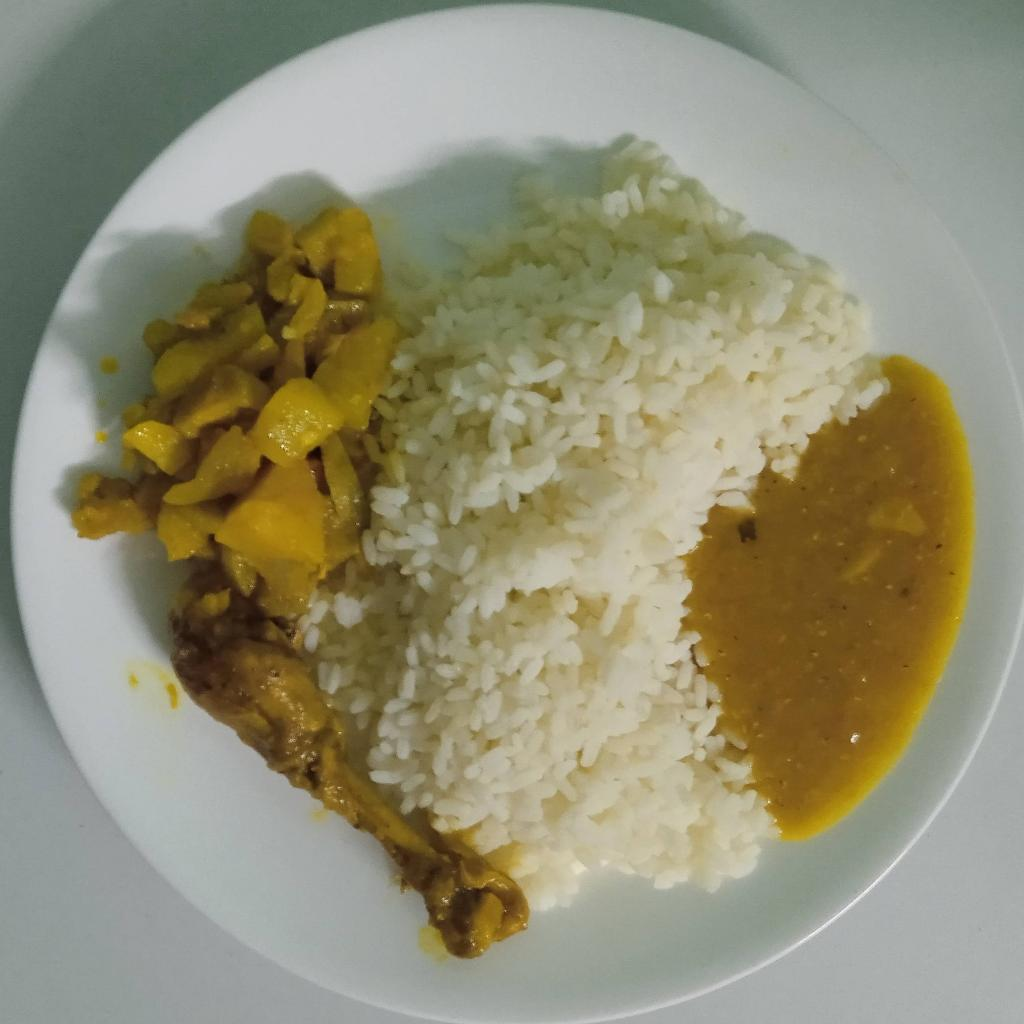chicken: (173, 641, 530, 952)
daal: (692, 356, 977, 834)
kumra-vaji: (73, 201, 396, 638)
rice: (290, 136, 892, 905)
